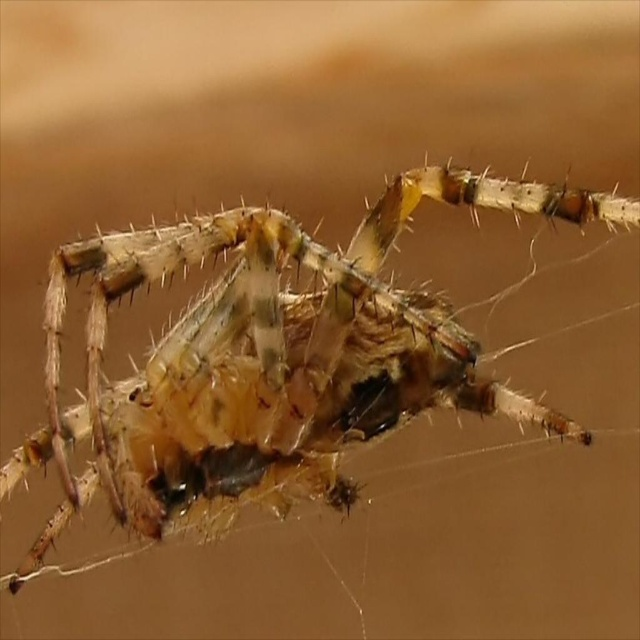Spider: (0, 149, 640, 594)
